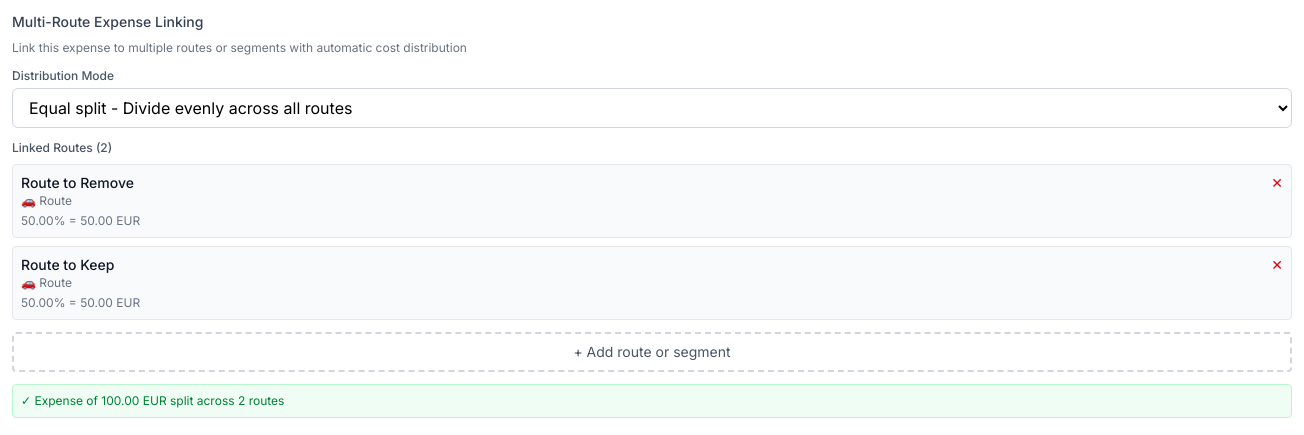
Test: MultiRouteLinkManager › removing links › removes link when remove button is clicked
The width and height of the screenshot is (1304, 435).
Check: the text "Route to Remove" is shown, box [21,174,134,191]
// Find the remove button for the first route
Click the button titled "Remove link" in the row of "Route to Remove".
click(1277, 183)  # box [1271,173,1283,193]
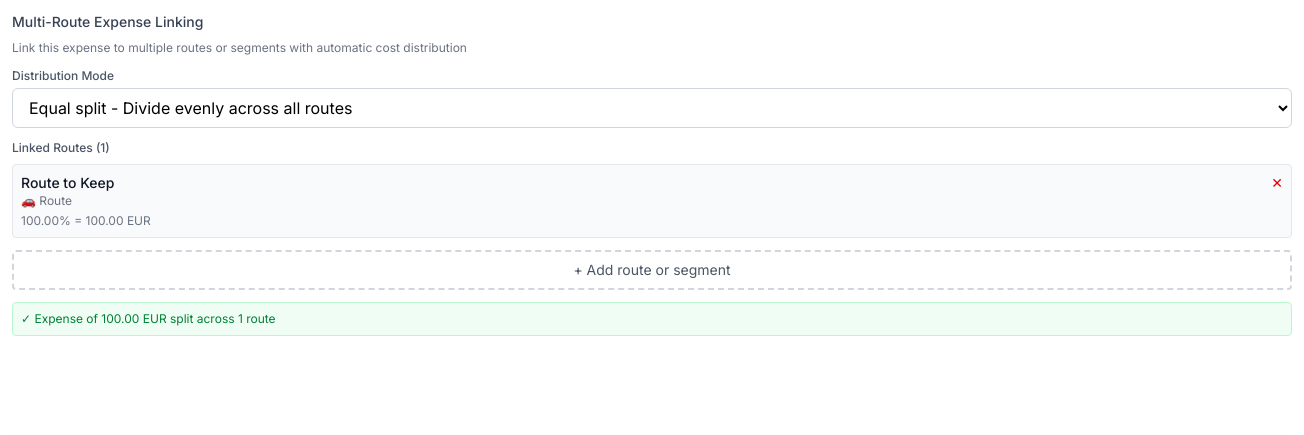
Check: the text "Route to Keep" is shown, box [21,174,114,191]
Check: the text "Route to Remove" is gone
